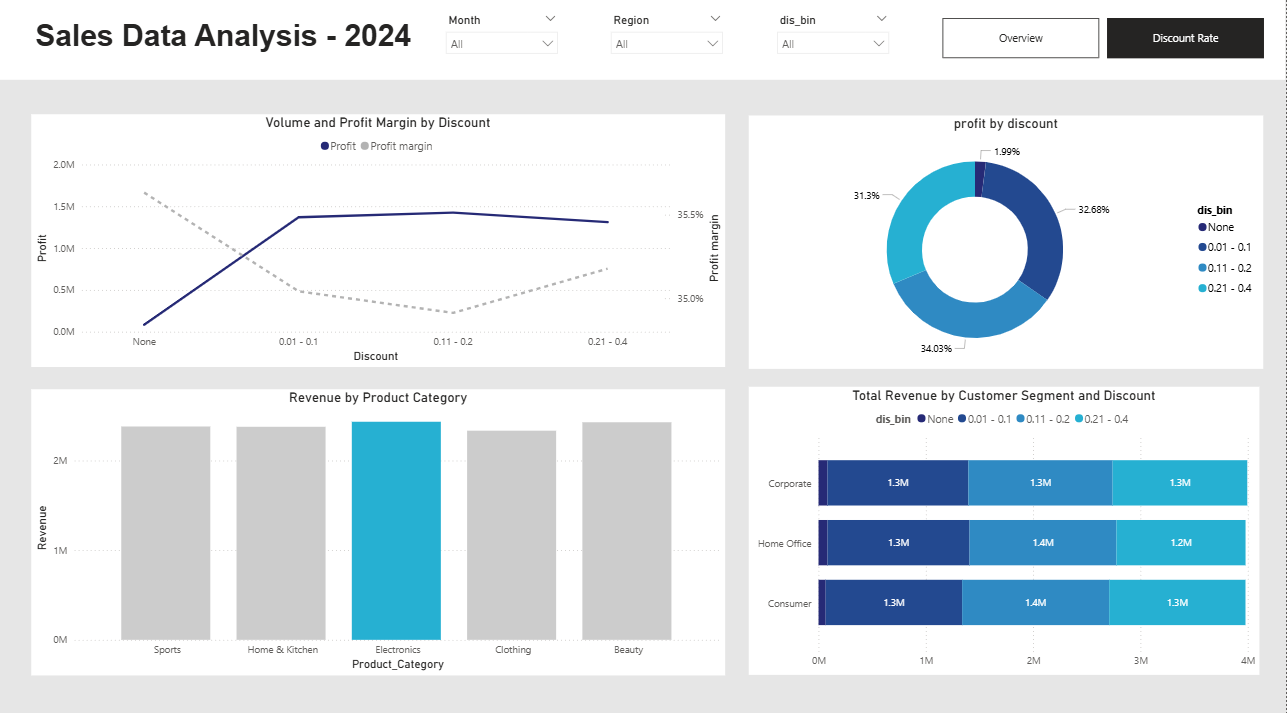

The dashboard page shown, as its layout file describes it:
{"tool":"powerbi","page":{"name":"Discount Rate","canvas":[1600,900],"ordinal":1},"visuals":[{"type":"textbox","box":[0,0,1600,108.3],"z":0},{"type":"barChart","title":"Total Revenue by Customer Segment and Discount","fields":{"Y":["_measure.t_rev"],"Category":["sales.Customer_Segment"],"Series":["sales.dis_bin"]},"box":[931.7,490,635,358.3],"z":1000},{"type":"slicer","fields":{"Values":["date.Month"]},"box":[541.4,15.7,166.3,81.2],"z":2000,"group":"g1"},{"type":"lineChart","title":"Volume and Profit Margin by Discount","fields":{"Category":["sales.dis_bin"],"Y":["_measure.t_profit"],"Y2":["_measure.Profit margin"]},"box":[38.6,151.4,862.9,314.3],"z":2000},{"type":"slicer","fields":{"Values":["sales.Region"]},"box":[747.4,15.7,166.3,81.2],"z":3000,"group":"g1"},{"type":"textbox","box":[38.3,26.7,490,56.7],"z":3000},{"type":"slicer","fields":{"Values":["sales.dis_bin"]},"box":[953.3,15.7,166.3,81.2],"z":4000,"group":"g1"},{"type":"columnChart","title":"Revenue by Product Category","fields":{"Category":["sales.Product_Category"],"Y":["_measure.t_rev"]},"box":[38.6,492.9,862.9,355.7],"z":4000},{"type":"donutChart","title":"profit by discount","fields":{"Category":["sales.dis_bin"],"Y":["_measure.t_profit"]},"box":[931.7,151.7,640,315],"z":5000},{"type":"pageNavigator","box":[1172.9,31.4,400,50],"z":6000},{"type":"group","id":"g1","title":"Group 1","box":[541.4,15.7,577.1,81.4],"z":7000}]}

Visuals, with their boxes in screenshot pixels (x1, y1, x2, y2), scaled from the page's 1600x900 canvas onto the 1287x713 screenshot:
textbox: [left=0, top=0, right=1286, bottom=86]
"Total Revenue by Customer Segment and Discount" barChart: [left=749, top=388, right=1260, bottom=672]
slicer - date.Month: [left=435, top=12, right=569, bottom=77]
"Volume and Profit Margin by Discount" lineChart: [left=31, top=120, right=725, bottom=369]
slicer - sales.Region: [left=601, top=12, right=735, bottom=77]
textbox: [left=31, top=21, right=425, bottom=66]
slicer - sales.dis_bin: [left=767, top=12, right=901, bottom=77]
"Revenue by Product Category" columnChart: [left=31, top=390, right=725, bottom=672]
"profit by discount" donutChart: [left=749, top=120, right=1264, bottom=370]
pageNavigator: [left=943, top=25, right=1265, bottom=64]
"Group 1" group: [left=435, top=12, right=900, bottom=77]
